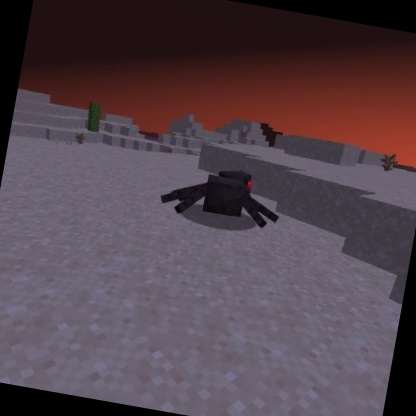spider: (155, 154, 289, 236)
